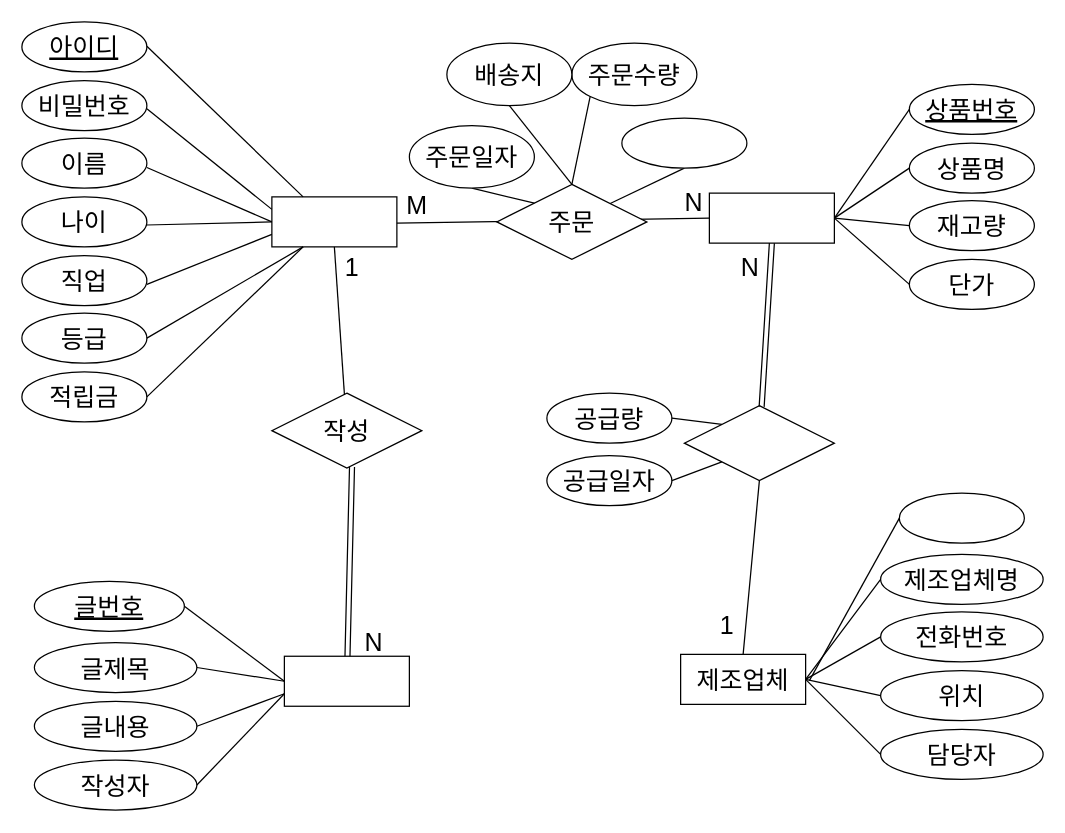
The diagram is 1065 pixels wide and 833 high, and some of its shapes have lost their labels. The shapes that lost their labels are listed below. From the top down, each one's centre as x and y in pixels, then its label:
[684,142]: 주문번호
[334,221]: 회원
[771,217]: 상품
[758,442]: 공급
[961,517]: 업체코드
[346,680]: 게시글
